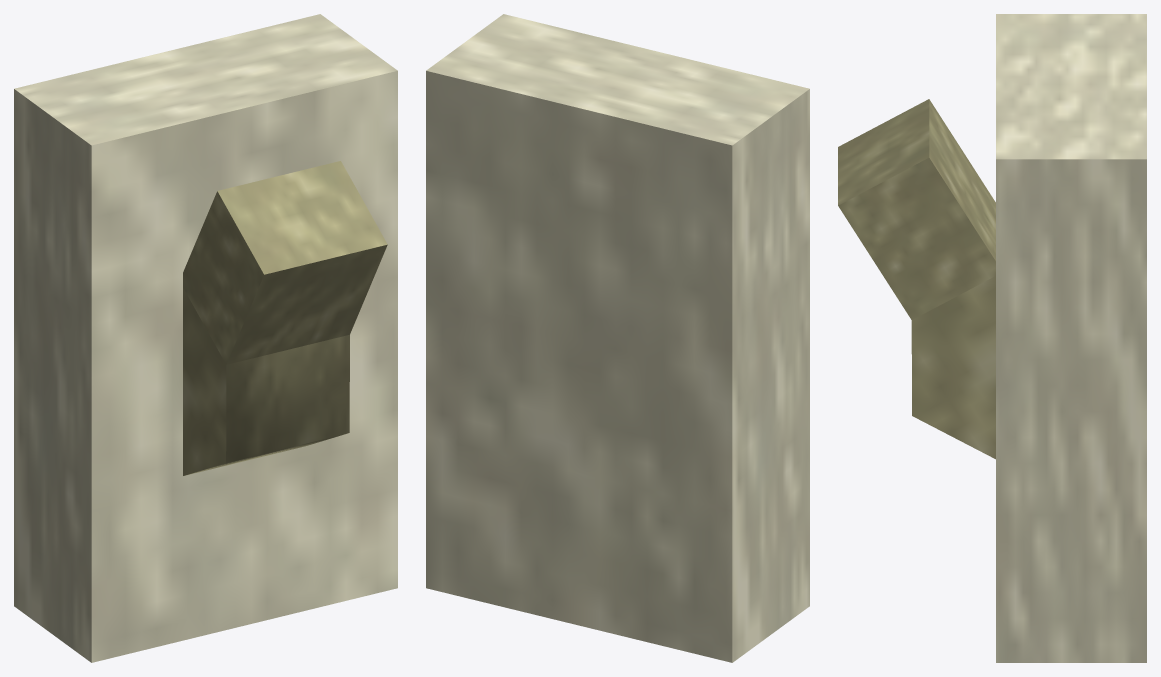
File: Lightswitch.fbx
The picture shows the model from 3 angles, left to right: view 1: azimuth 30°, elevation 25°; view 2: azimuth 150°, elevation 25°; view 3: azimuth 270°, elevation 25°; orthographic projection. The views are drawn at different scales.
Visible parts, largest first — view 1: Base, Switch; view 2: Base; view 3: Base, Switch.
Boxes of the visible parts, x1=… form: Base: x1=14, y1=14, x2=397, y2=662; Switch: x1=183, y1=161, x2=387, y2=475; Base: x1=426, y1=14, x2=809, y2=662; Base: x1=996, y1=14, x2=1146, y2=662; Switch: x1=838, y1=99, x2=995, y2=459.
Size of the model in its own units: 0.7681 by 1.24 by 0.6893.
